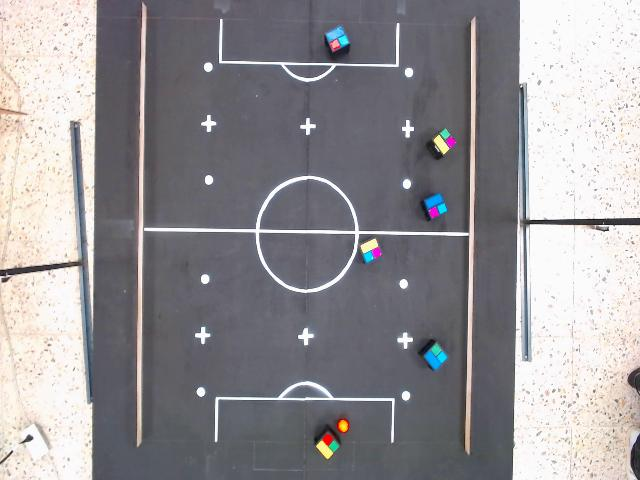robot: (422, 340, 451, 373), (314, 432, 341, 461), (324, 24, 351, 53), (357, 237, 384, 265), (432, 127, 458, 156), (423, 192, 448, 220)
